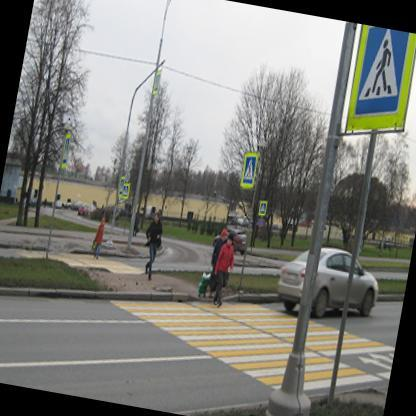road_sign: (342, 25, 415, 134), (240, 151, 258, 188), (119, 178, 130, 199), (256, 198, 268, 217)
